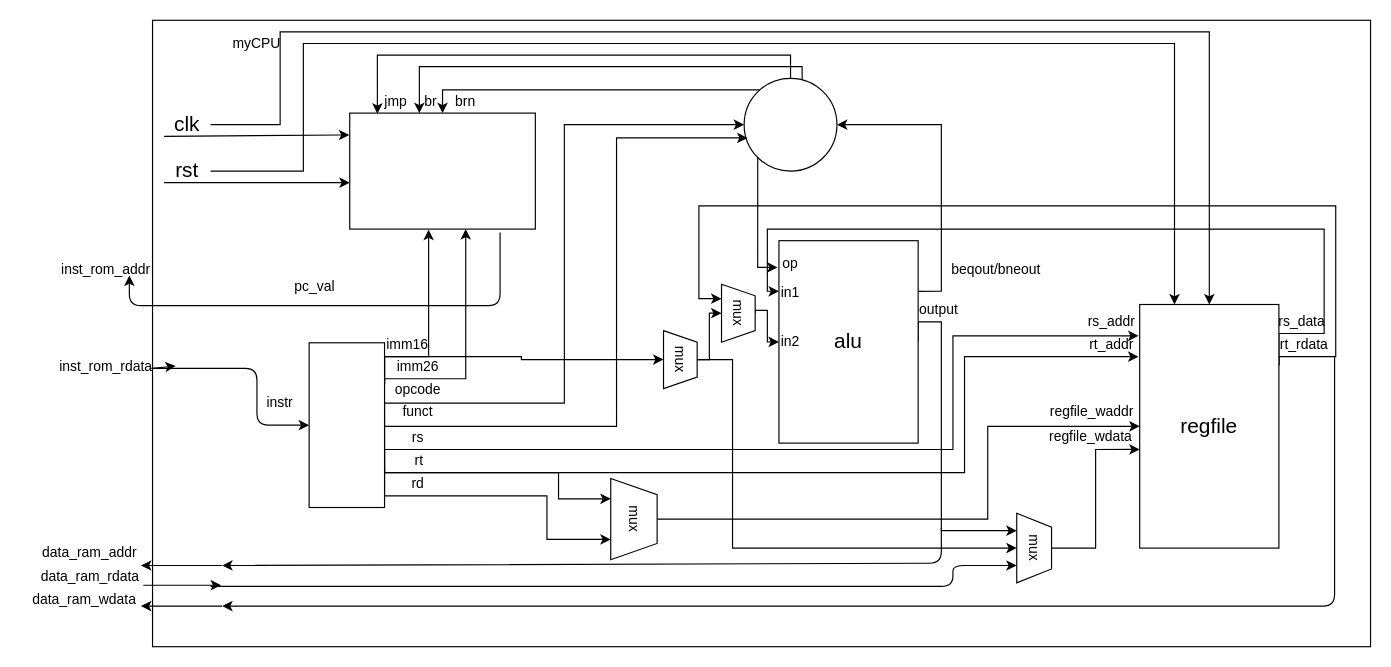
Image size: 1391x667. Some labels were removed from this diagram. Each missing label, with the centre of its shape:
"ctrl" goes at pixel 790 124.
"decode" goes at pixel 346 424.
"pc" goes at pixel 442 170.
